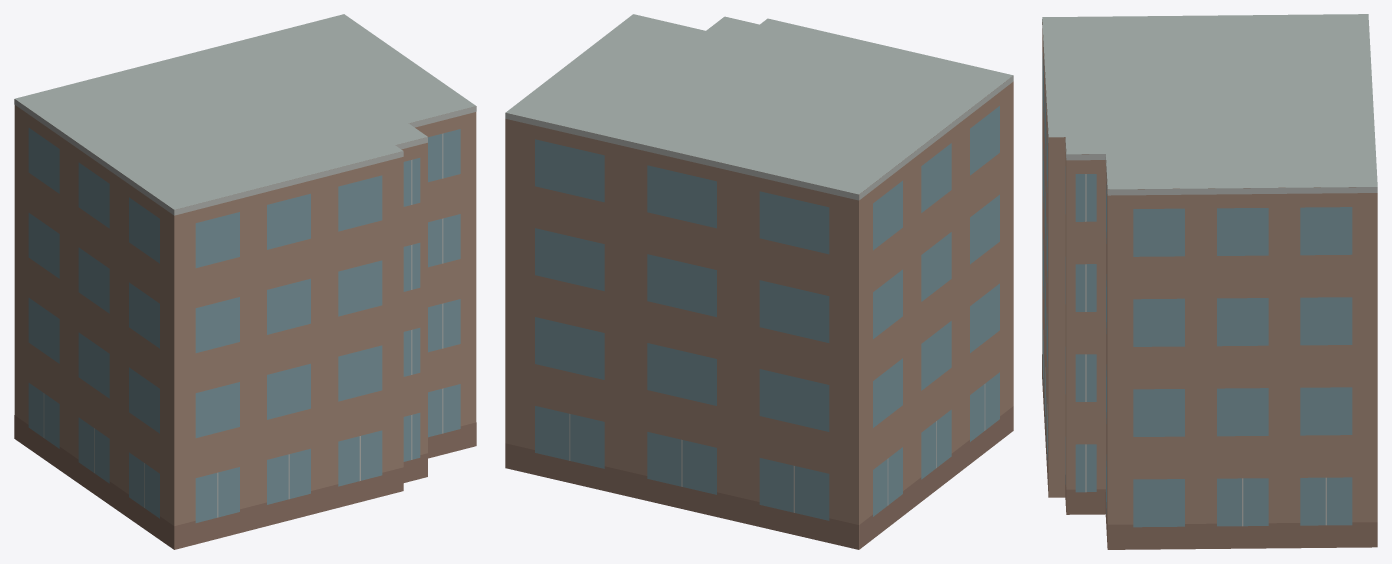
The model's file is survey-upis-32672153.glb.
3 views of the same model, side by side, from view 1: azimuth 30°, elevation 25°; view 2: azimuth 150°, elevation 25°; view 3: azimuth 270°, elevation 25° (orthographic). The views are drawn at different scales.
Visible parts, largest first — view 1: survey-upis-32672153.tmp; view 2: survey-upis-32672153.tmp; view 3: survey-upis-32672153.tmp.
Boxes of the visible parts, x1,y1,x2,y2 form: survey-upis-32672153.tmp: (14, 14, 476, 549); survey-upis-32672153.tmp: (505, 14, 1013, 549); survey-upis-32672153.tmp: (1042, 14, 1377, 549).
Size of the model in its own units: 15.03 by 14.39 by 12.15.
